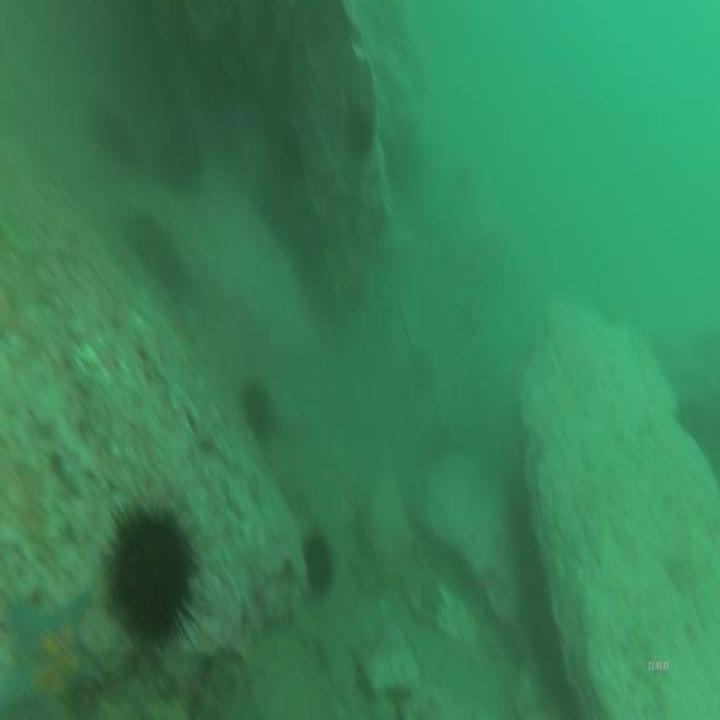echinus: (100, 496, 200, 663), (155, 121, 203, 197), (299, 528, 337, 601), (240, 380, 275, 446), (343, 102, 377, 164), (95, 110, 134, 162)
starfish: (2, 590, 103, 720)
